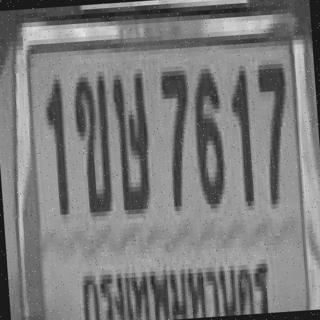A02: (70, 69, 112, 211)
A39: (110, 66, 152, 208)
N01: (227, 62, 254, 202), (42, 72, 68, 213)
N06: (190, 61, 224, 202)
N07: (255, 56, 292, 202), (158, 64, 193, 204)
P04: (75, 251, 273, 320)
